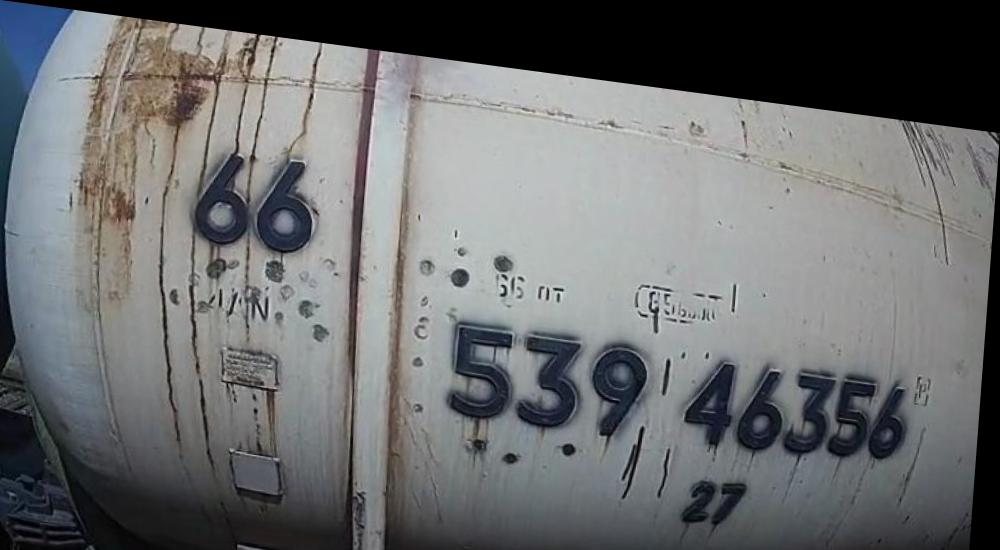Wagon-number: (445, 301, 919, 454)
